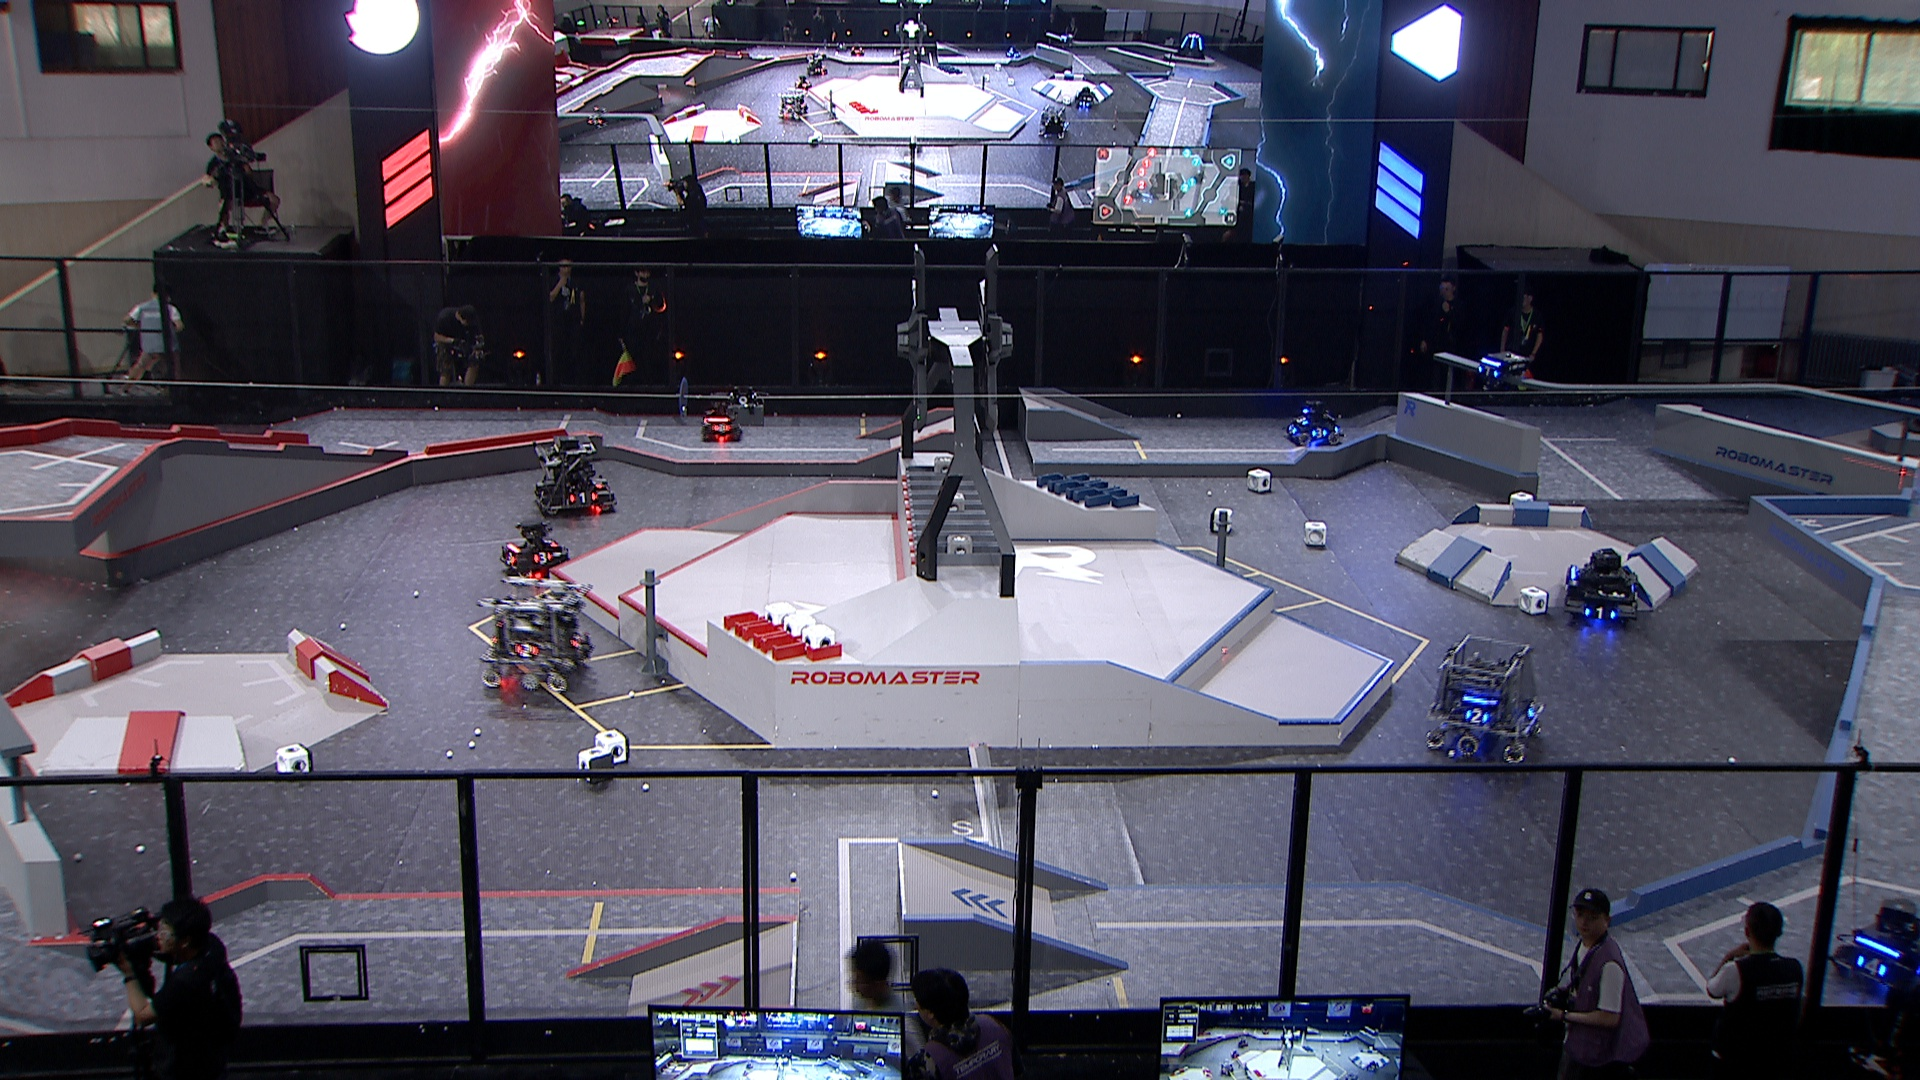armor: (1582, 604, 1617, 622), (1855, 956, 1888, 975), (566, 488, 597, 505), (1465, 707, 1491, 727), (513, 640, 539, 657), (1524, 700, 1542, 719), (1477, 365, 1501, 378), (531, 551, 555, 564), (711, 422, 733, 434), (1309, 425, 1329, 438), (568, 636, 588, 647), (502, 553, 518, 567), (545, 537, 560, 549), (1284, 423, 1298, 436), (1295, 415, 1309, 427)
car: (1427, 638, 1545, 773), (473, 576, 593, 698), (1828, 897, 1920, 992), (527, 434, 615, 520), (1560, 549, 1643, 629), (498, 520, 570, 576), (1280, 396, 1346, 448), (698, 396, 745, 443)
ignore: (1039, 102, 1073, 142), (1171, 32, 1209, 62), (778, 84, 807, 121), (804, 49, 825, 78), (1073, 84, 1097, 109), (588, 105, 611, 131)
watcher: (1474, 351, 1524, 400)
